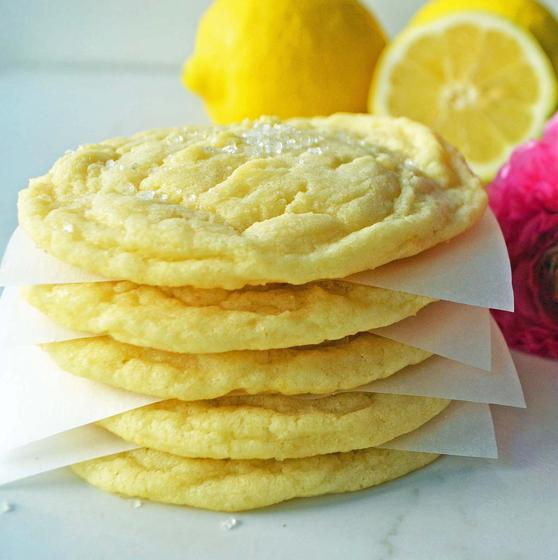lemon: (177, 2, 386, 120)
